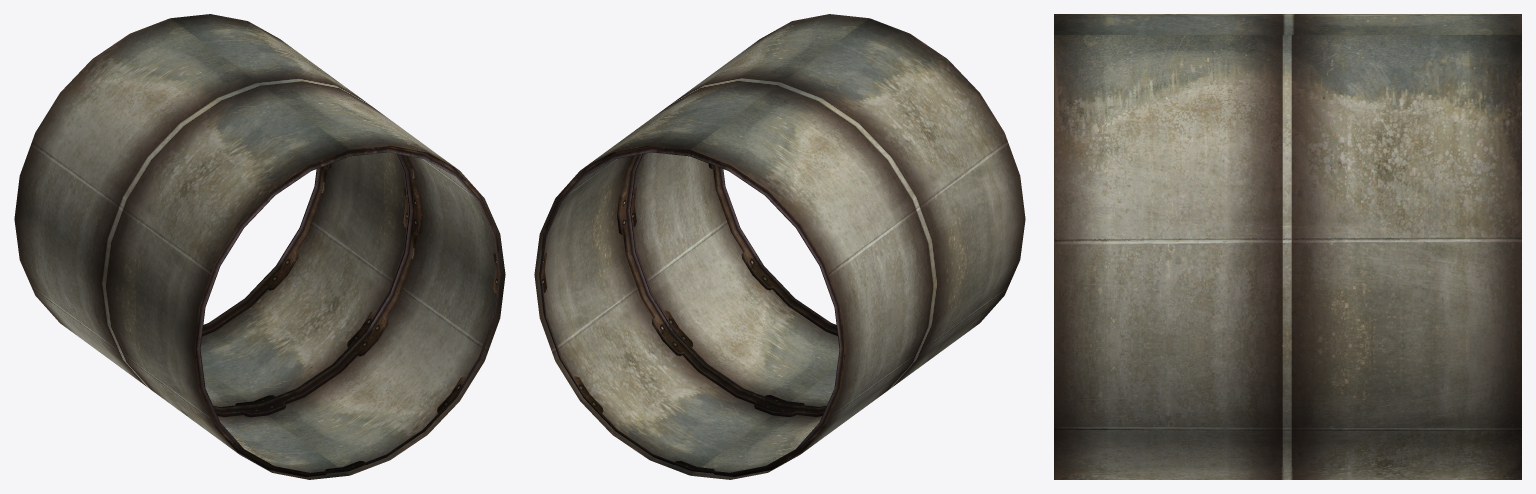
Rendered from pump_tunnel_02_07_straight_short.dae.
3 views of the same model, side by side, from view 1: azimuth 30°, elevation 25°; view 2: azimuth 150°, elevation 25°; view 3: azimuth 270°, elevation 25° (orthographic). The views are drawn at different scales.
Visible parts, largest first — view 1: polySurface612; view 2: polySurface612; view 3: polySurface612.
Part boxes in pixels (bbox=[...]): polySurface612: bbox=[14, 14, 505, 479]; polySurface612: bbox=[534, 14, 1025, 479]; polySurface612: bbox=[1054, 14, 1521, 479].
Bounding box in the file's own units: 4 × 4 × 4.
